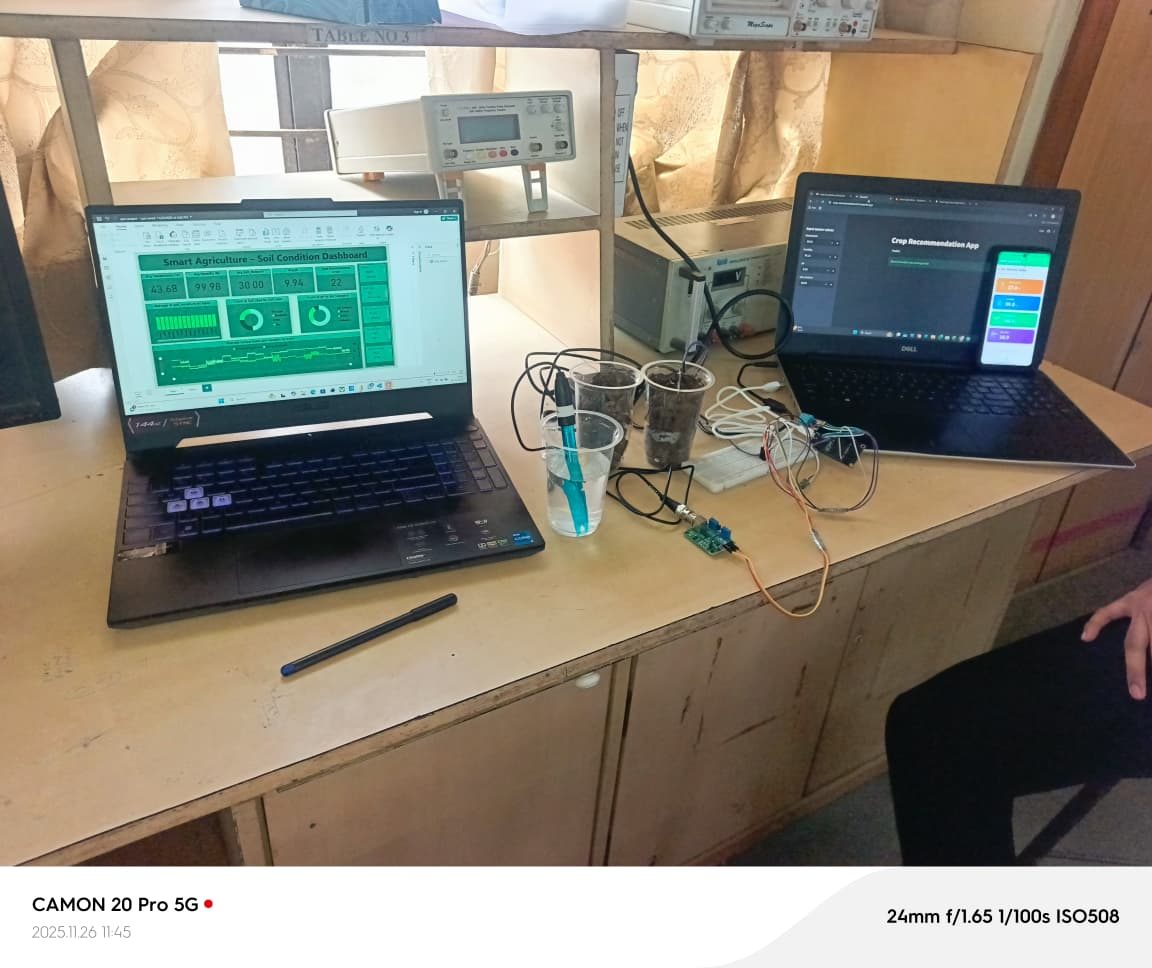

The dashboard page shown, as its layout file describes it:
{"tool":"powerbi","page":{"name":"Page 1","canvas":[1280,720],"ordinal":0},"visuals":[{"type":"kpi","title":"Avg Temperature (°C)","fields":{"Indicator":["Avg(crop_recom.temperature)"],"TrendLine":["crop_recom.temperature"]},"box":[13.3,109.8,197.9,137.5],"z":0},{"type":"kpi","title":"Avg Soil_Moisture","fields":{"Indicator":["Avg(crop_recom.soil_moisture)"],"TrendLine":["crop_recom.soil_moisture"]},"box":[431.9,111,207.5,138.7],"z":1000},{"type":"kpi","title":"Avg Humidity (%)","fields":{"Indicator":["Avg(crop_recom.humidity)"],"TrendLine":["crop_recom.humidity"]},"box":[222,109.8,199.1,138.7],"z":2000},{"type":"kpi","title":"Avg ph","fields":{"Indicator":["Avg(crop_recom.ph)"],"TrendLine":["crop_recom.ph"]},"box":[646.7,111,212.3,139.9],"z":3000},{"type":"kpi","title":"Total Recommended Crops","fields":{"Indicator":["crop_recom.Total Crop Types"],"TrendLine":["crop_recom.Temperature_Category"]},"box":[872.3,111,209.9,137.5],"z":4000},{"type":"shape","box":[13.7,12.3,1251.5,82.3],"z":5000},{"type":"textbox","box":[122.1,15.1,1049.7,76.8],"z":6000},{"type":"clusteredColumnChart","fields":{"Category":["crop_recom.label"],"Y":["Avg(crop_recom.soil_moisture)"]},"box":[13.3,264.2,342.6,213.5],"z":7000},{"type":"donutChart","title":"Count of pH by pH_Category","fields":{"Category":["crop_recom.pH_Category"],"Y":["CountNonNull(crop_recom.pH_Category)"]},"box":[762.5,264.2,319.7,211.1],"z":8000},{"type":"donutChart","fields":{"Category":["crop_recom.Soil_type"],"Y":["CountNonNull(crop_recom.Soil_type)"]},"box":[398.1,264.2,318.5,209.9],"z":9000},{"type":"lineChart","title":"Average temperature and humidity by Index","fields":{"Y":["Avg(crop_recom.temperature)"],"Y2":["Avg(crop_recom.humidity)"],"Category":["crop_recom.Index"]},"box":[13.3,487.4,1068.9,219.6],"z":10000},{"type":"shape","box":[1096.7,103.8,168.9,603.2],"z":11000},{"type":"slicer","fields":{"Values":["crop_recom.label"]},"box":[1107.5,112.2,147.2,94.1],"z":12000},{"type":"slicer","fields":{"Values":["crop_recom.Soil_type"]},"box":[1107.5,229.2,147.2,94.1],"z":13000},{"type":"slicer","fields":{"Values":["crop_recom.pH_Category"]},"box":[1107.5,347.5,147.2,94.1],"z":14000},{"type":"slicer","fields":{"Values":["crop_recom.Temperature_Category"]},"box":[1107.5,465.7,147.2,94.1],"z":15000},{"type":"slicer","fields":{"Values":["crop_recom.soil_moisture"]},"box":[1107.5,581.5,147.2,94.1],"z":16000}]}

Visuals, with their boxes on the page's 1280x720 design canvas (x1, y1, x2, y2). These are canvas units, not pixel positions in the 1152x968 screenshot, which may show the page scaled, cropped or inside an application window:
"Avg Temperature (°C)" kpi: region(13, 110, 211, 247)
"Avg Soil_Moisture" kpi: region(432, 111, 639, 250)
"Avg Humidity (%)" kpi: region(222, 110, 421, 248)
"Avg ph" kpi: region(647, 111, 859, 251)
"Total Recommended Crops" kpi: region(872, 111, 1082, 248)
shape: region(14, 12, 1265, 95)
textbox: region(122, 15, 1172, 92)
clusteredColumnChart - crop_recom.label x Avg(crop_recom.soil_moisture): region(13, 264, 356, 478)
"Count of pH by pH_Category" donutChart: region(762, 264, 1082, 475)
donutChart - crop_recom.Soil_type x CountNonNull(crop_recom.Soil_type): region(398, 264, 717, 474)
"Average temperature and humidity by Index" lineChart: region(13, 487, 1082, 707)
shape: region(1097, 104, 1266, 707)
slicer - crop_recom.label: region(1108, 112, 1255, 206)
slicer - crop_recom.Soil_type: region(1108, 229, 1255, 323)
slicer - crop_recom.pH_Category: region(1108, 348, 1255, 442)
slicer - crop_recom.Temperature_Category: region(1108, 466, 1255, 560)
slicer - crop_recom.soil_moisture: region(1108, 582, 1255, 676)
